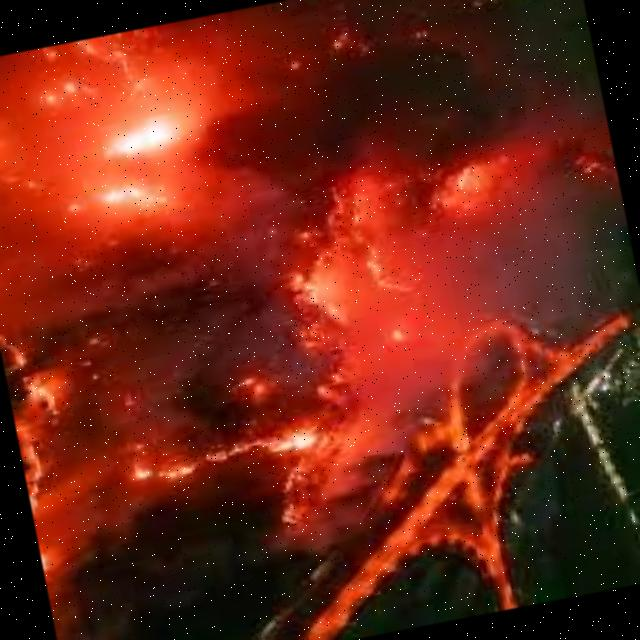explosion: (117, 330, 405, 540), (0, 55, 237, 295)
